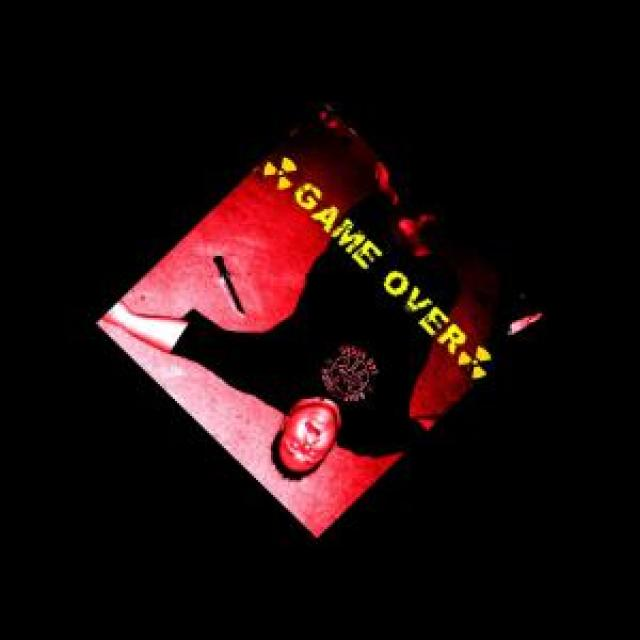knife: (205, 252, 247, 320)
